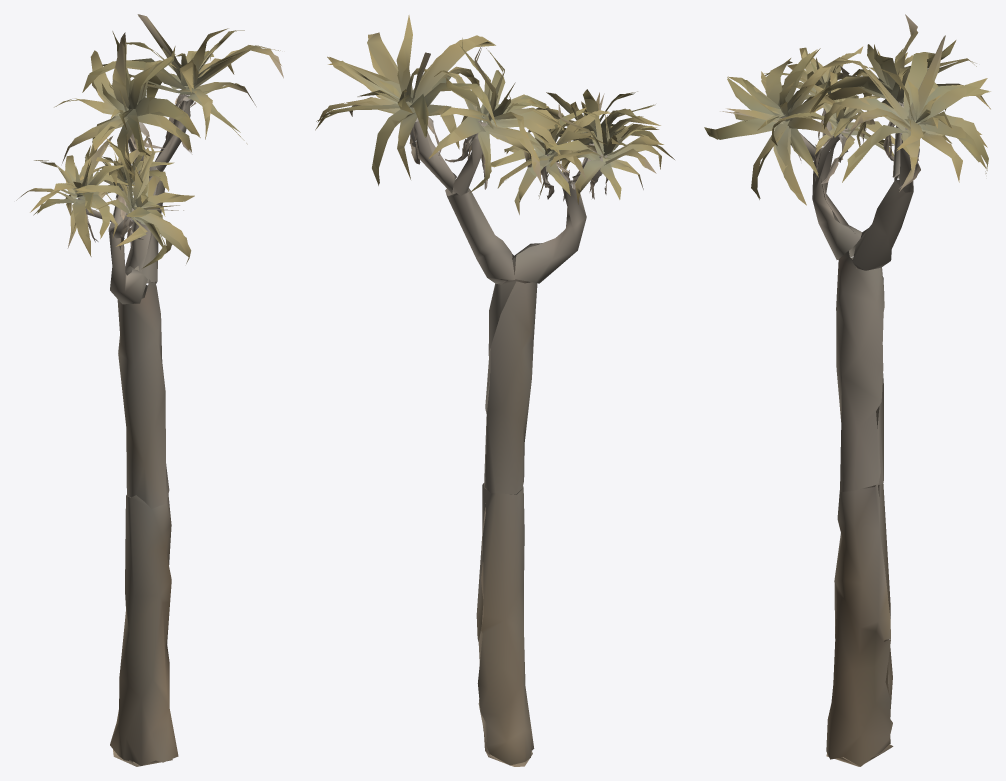
The model's file is quiver-tree.glb.
3 views of the same model, side by side, from view 1: azimuth 30°, elevation 25°; view 2: azimuth 150°, elevation 25°; view 3: azimuth 270°, elevation 25° (orthographic). The views are drawn at different scales.
Visible parts, largest first — view 1: quiver-tree; view 2: quiver-tree; view 3: quiver-tree.
Boxes of the visible parts, box(x1,y1,x2,y2) form: quiver-tree: box(16, 14, 283, 766); quiver-tree: box(315, 15, 674, 766); quiver-tree: box(704, 14, 990, 766).
Size of the model in its own units: 1.19 by 2.71 by 0.9492.
